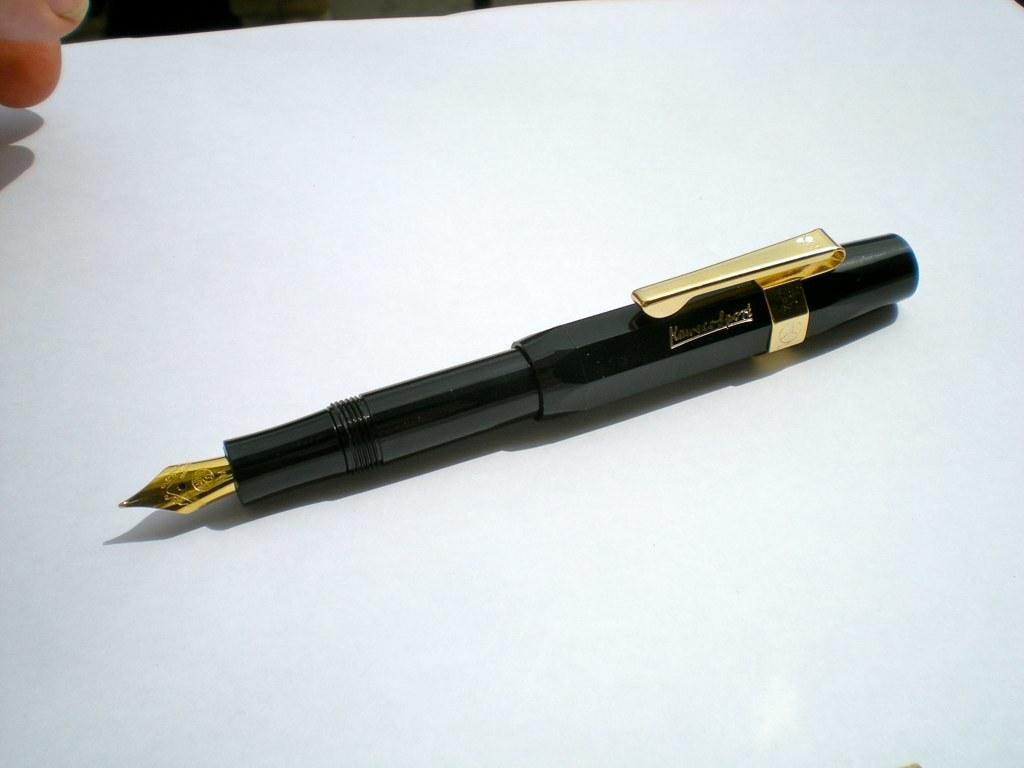pen: (119, 228, 918, 515)
